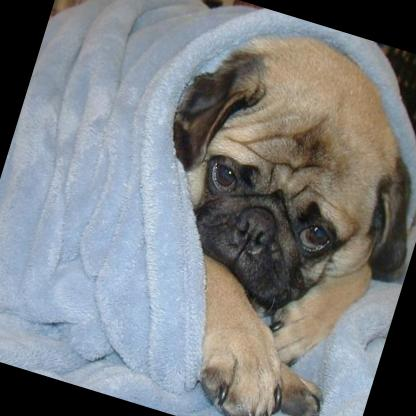pug: (90, 3, 416, 416)
